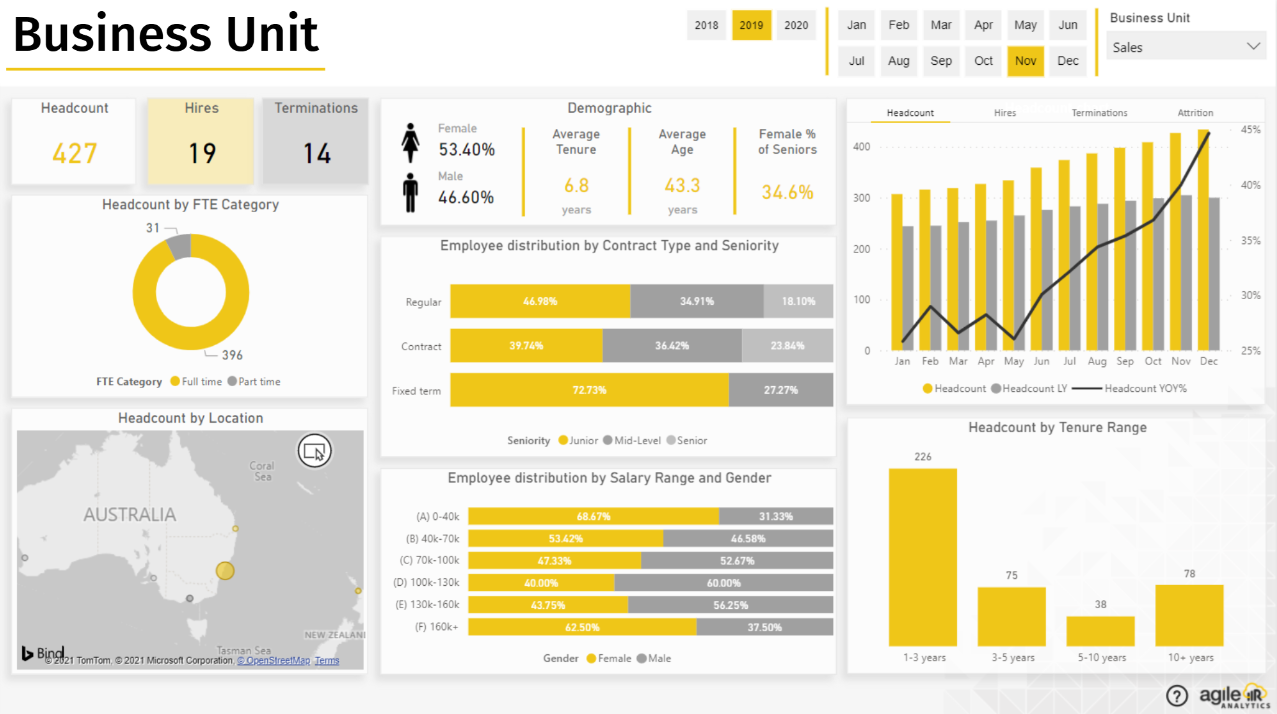

This screenshot's page, from the dashboard's own definition file:
{"tool":"powerbi","page":{"name":"Business Unit","canvas":[1280,720],"ordinal":1},"visuals":[{"type":"card","fields":{"Values":["v_fact_headcount.TotalHeadCount"]},"box":[24.7,120.8,179.8,102.9],"z":0},{"type":"slicer","fields":{"Values":["v_dim_businessunit.Name"]},"box":[1000.3,15.1,279.9,70],"z":1},{"type":"slicer","fields":{"Values":["v_dim_date.MonthName"]},"box":[425.4,0,580.4,101.5],"z":2},{"type":"slicer","fields":{"Values":["v_dim_date.Year"]},"box":[131.7,0,310.1,101.5],"z":3},{"type":"card","fields":{"Values":["v_fact_recruitment.Hires"]},"box":[183.9,120.8,159.2,102.9],"z":4},{"type":"card","fields":{"Values":["v_dim_employee.Terminationation"]},"box":[360.9,120.8,134.5,102.9],"z":5},{"type":"donutChart","fields":{"Y":["v_dim_employee.Total Employee"],"Category":["v_dim_employee.FTECategory"]},"box":[43.9,244.3,279.9,150.9],"z":6}]}

Visuals, with their boxes in screenshot pixels (x1, y1, x2, y2), scaled from the page's 1280x720 canvas onto the 1277x714 screenshot:
card - v_fact_headcount.TotalHeadCount: (25, 120, 204, 222)
slicer - v_dim_businessunit.Name: (998, 15, 1276, 84)
slicer - v_dim_date.MonthName: (424, 0, 1003, 101)
slicer - v_dim_date.Year: (131, 0, 441, 101)
card - v_fact_recruitment.Hires: (183, 120, 342, 222)
card - v_dim_employee.Terminationation: (360, 120, 494, 222)
donutChart - v_dim_employee.Total Employee x v_dim_employee.FTECategory: (44, 242, 323, 392)
